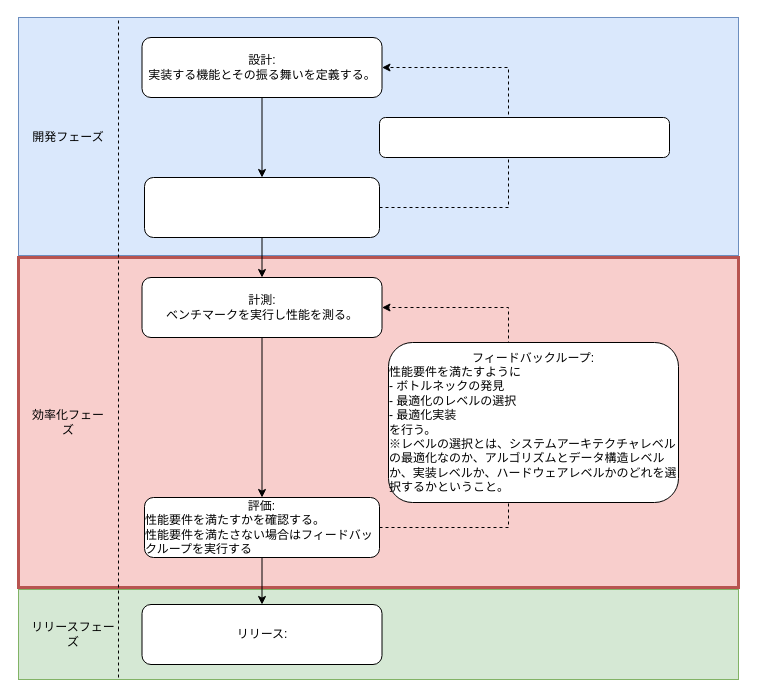
The diagram is 757 pixels wide and 697 high, and some of its shapes have lost their labels. The centre of each missing label's shape, as x and y in pixels:
"テストを書く: まずは単純なテスト1つ書く。 （最初は必ず失敗する。実装がないから。） これがパスしたら次の振る舞いをテストする。" goes at (262,207).
"フィードバックループ: テストがパスするように設計/実装/リファクタリングする。" goes at (524,137).
